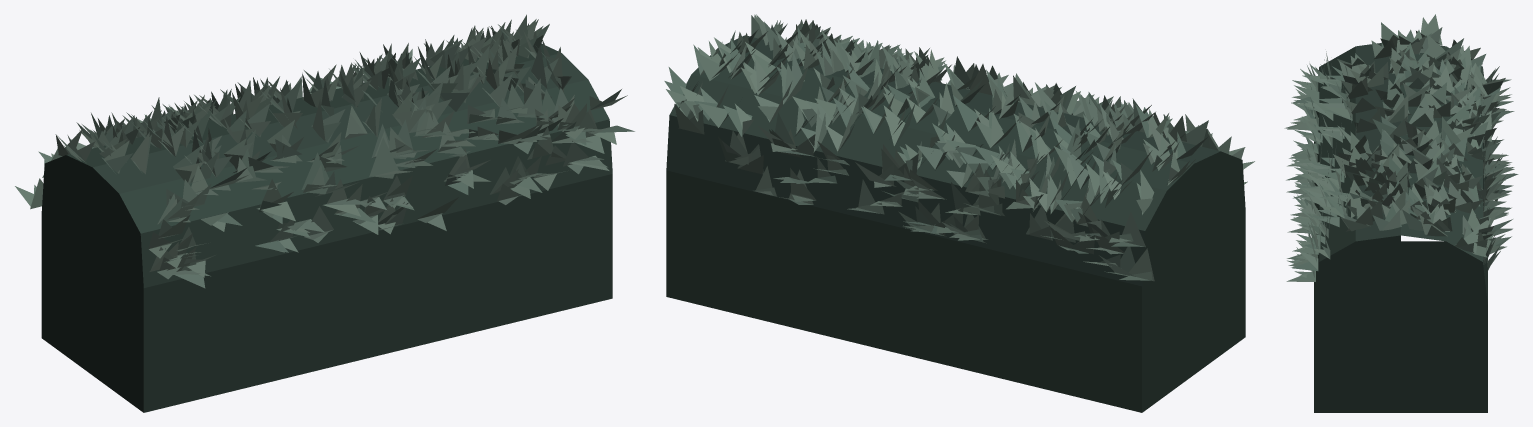
Rendered from hieda_hedge_c.glb.
3 renders of one model, left to right at view 1: azimuth 30°, elevation 25°; view 2: azimuth 150°, elevation 25°; view 3: azimuth 270°, elevation 25°, orthographic. The views are drawn at different scales.
Parts seen in each view (by area): view 1: hieda_hedge_c; view 2: hieda_hedge_c; view 3: hieda_hedge_c.
Boxes of the visible parts, box(x1,y1,x2,y2) form: hieda_hedge_c: box(15, 14, 634, 412); hieda_hedge_c: box(664, 14, 1254, 412); hieda_hedge_c: box(1284, 14, 1518, 412).
Size of the model in its own units: 2.62 by 1.19 by 1.24.
